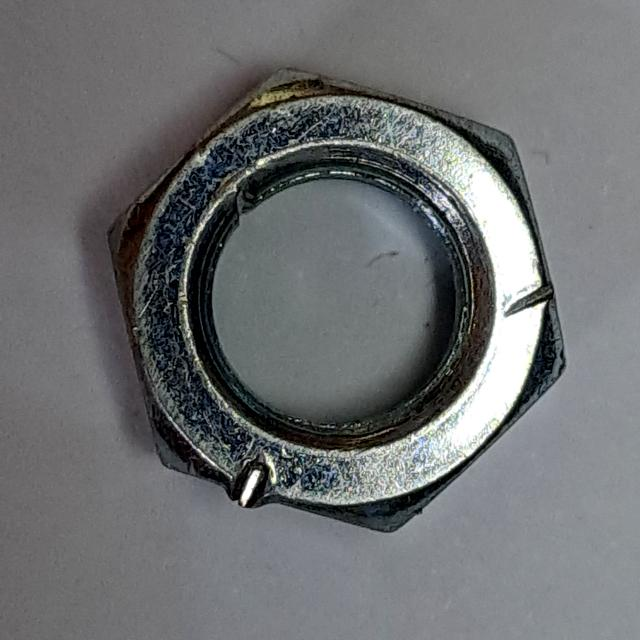Scratches: (94, 55, 594, 548)
